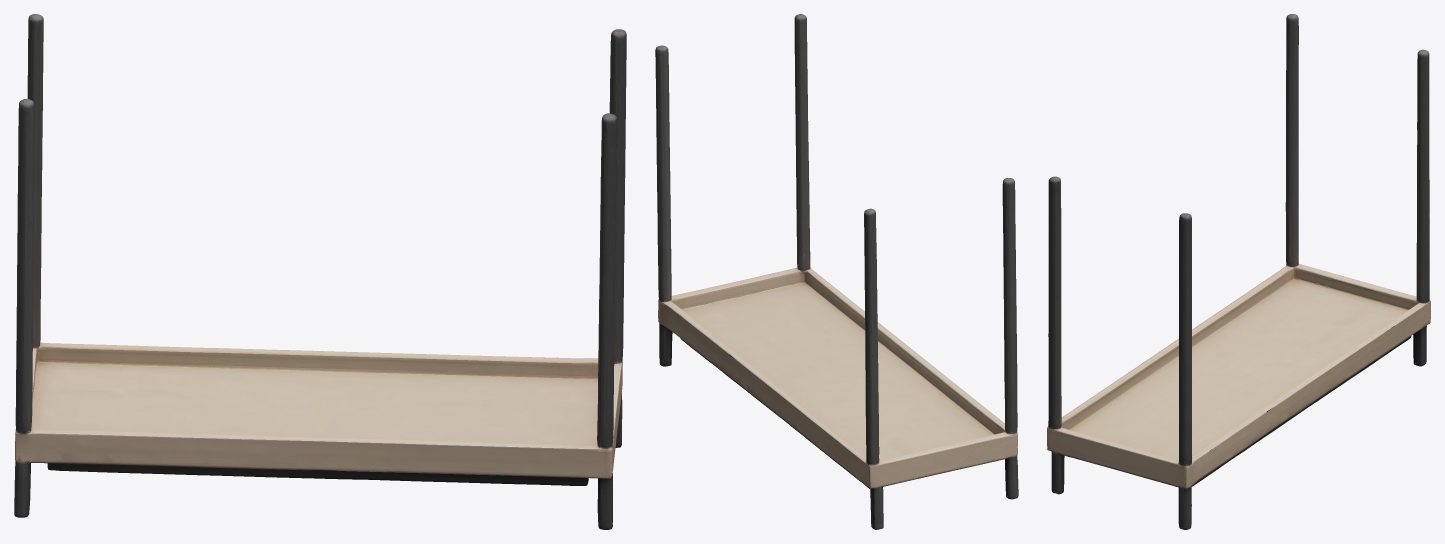
Rendered from upside-down_black_metal_table_frame_on_back_row_left_table_000.glb.
3 renders of one model, left to right at view 1: azimuth 30°, elevation 25°; view 2: azimuth 150°, elevation 25°; view 3: azimuth 270°, elevation 25°, orthographic. The views are drawn at different scales.
Parts seen in each view (by area): view 1: phase2_final_upside-down_black_metal_table_frame_on_back_row; view 2: phase2_final_upside-down_black_metal_table_frame_on_back_row; view 3: phase2_final_upside-down_black_metal_table_frame_on_back_row.
Boxes of the visible parts, x1,y1,x2,y2 form: phase2_final_upside-down_black_metal_table_frame_on_back_row: [14, 14, 626, 529]; phase2_final_upside-down_black_metal_table_frame_on_back_row: [655, 14, 1018, 529]; phase2_final_upside-down_black_metal_table_frame_on_back_row: [1047, 14, 1430, 529].
Bounding box in the file's own units: 0.5865 × 0.4349 × 0.4727.
1 material, 1 textured.
